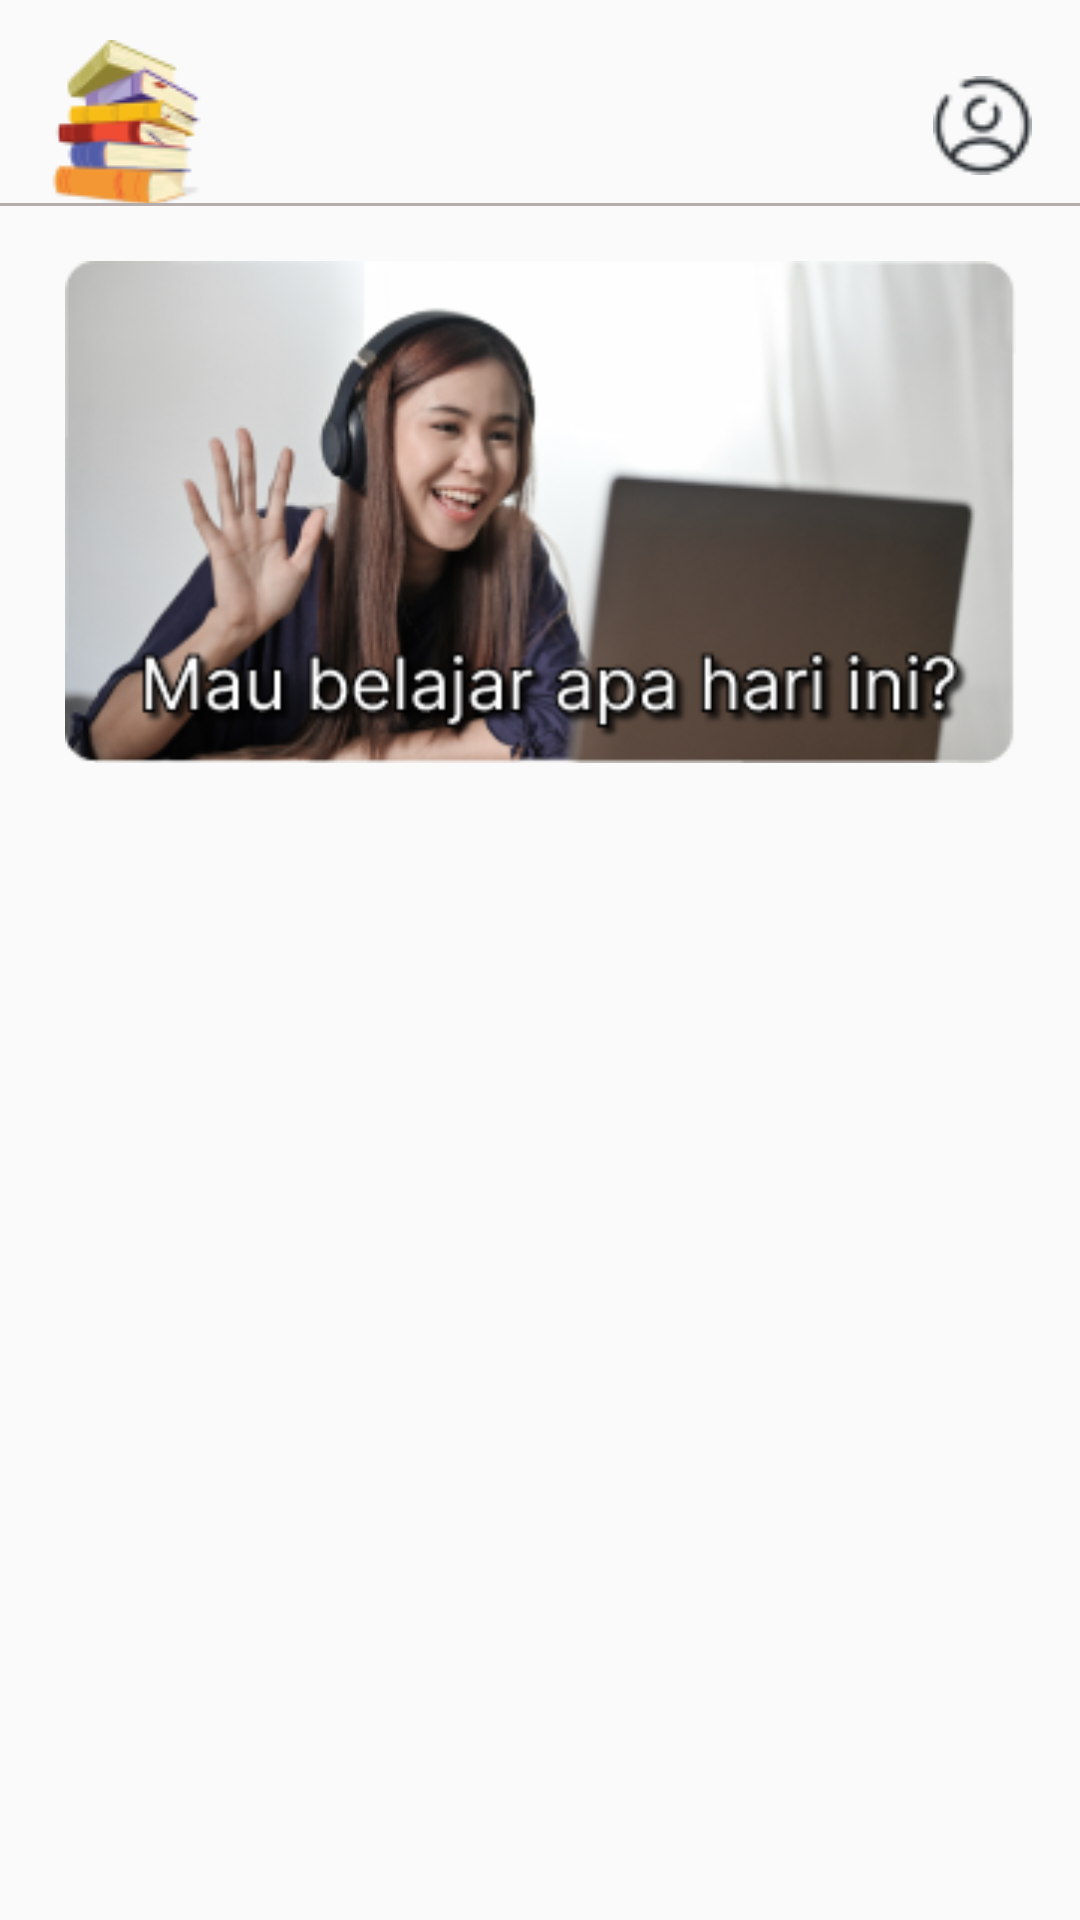

Point at icon controls on the screen. Image size 1080 × 1920, points as (x=x, y=y).
buku: (x=128, y=122)
profile: (x=982, y=125)
